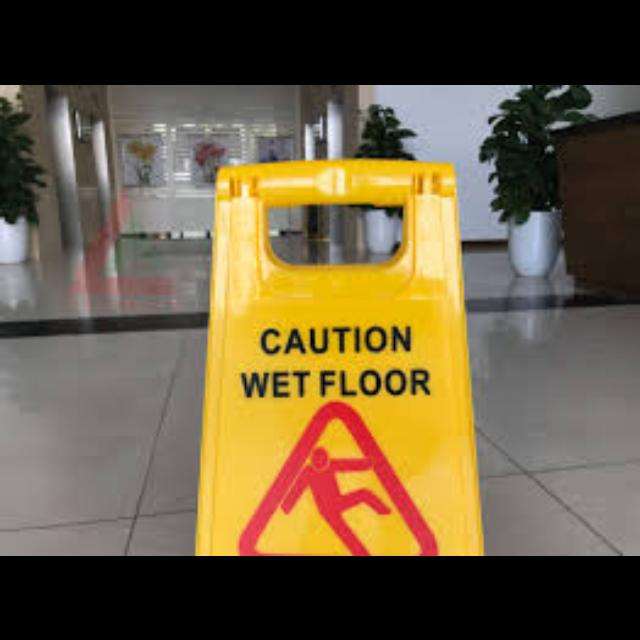tron truot: (195, 157, 481, 553)
